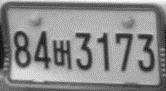1: (96, 31, 110, 72)
3: (137, 33, 155, 73), (75, 32, 92, 70)
4: (33, 29, 51, 69)
7: (114, 32, 133, 71)
8: (13, 30, 31, 67)
버: (52, 39, 72, 70)
